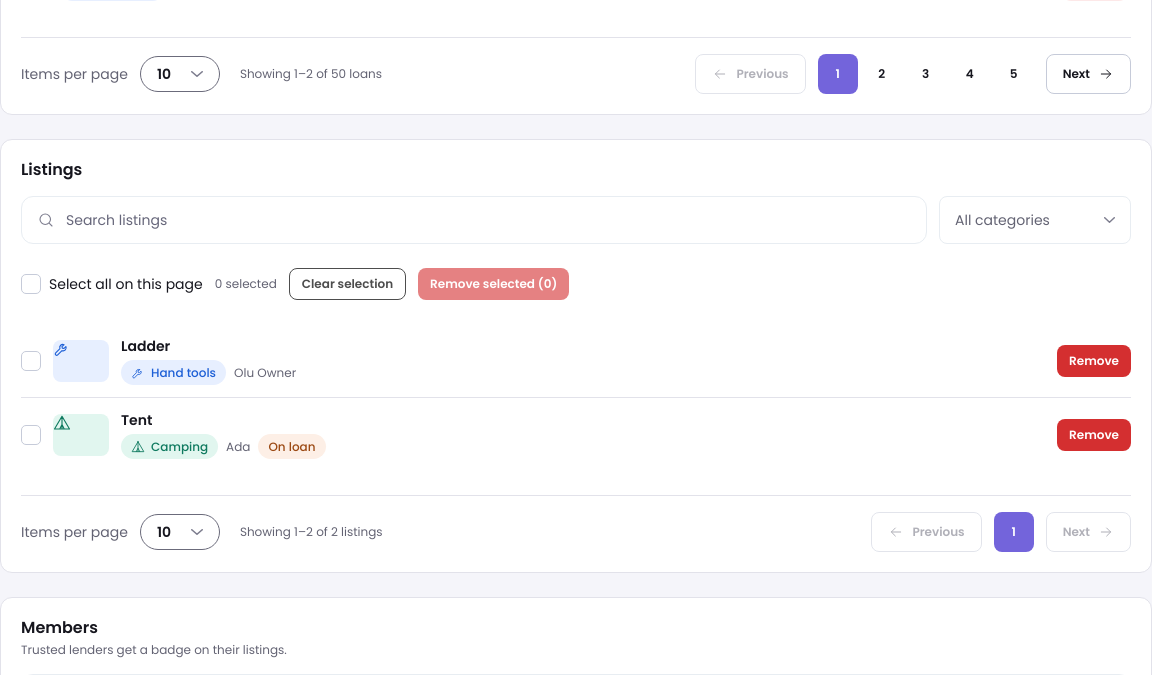
bulk listing removal › selects rows, supports mixed/select-all state, confirms and reports results
This screenshot has width=1152, height=675.
(page scrolled)
Expected: the button "Remove selected (0)" is disabled, [418,268,569,300]
Click the 1st checkbox named "Select Ladder" at point(31, 360), box [21,350,41,370]
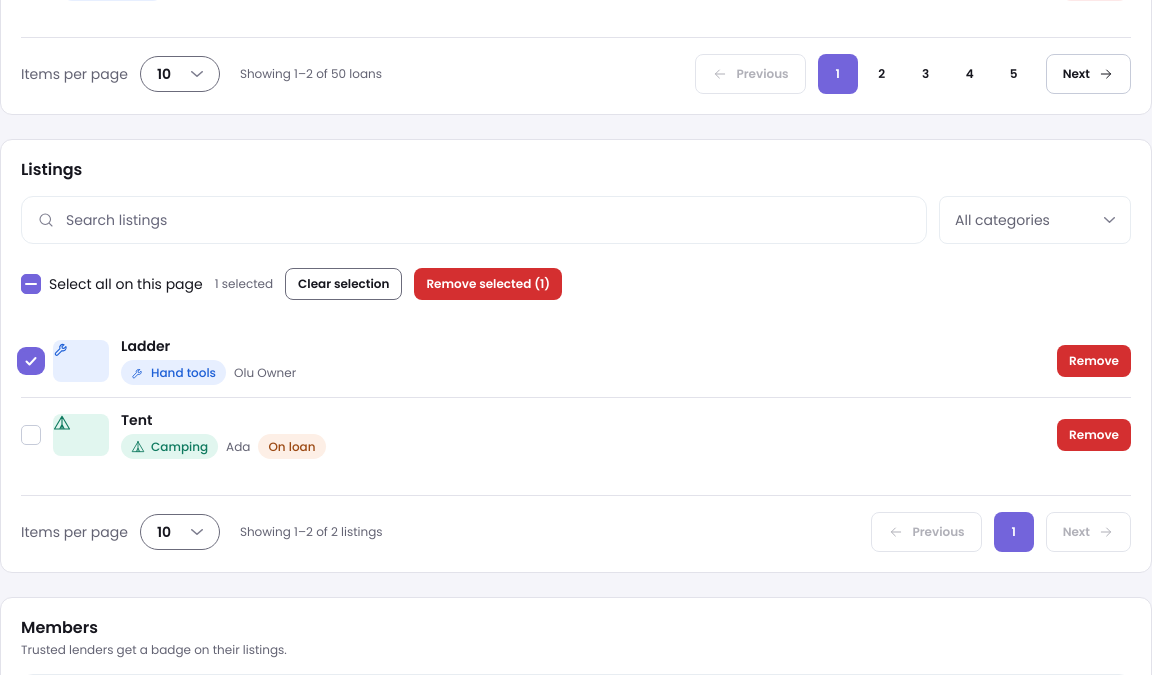
Click the checkbox labelled "Select all on this page" at point(31, 284), box [21,274,41,294]
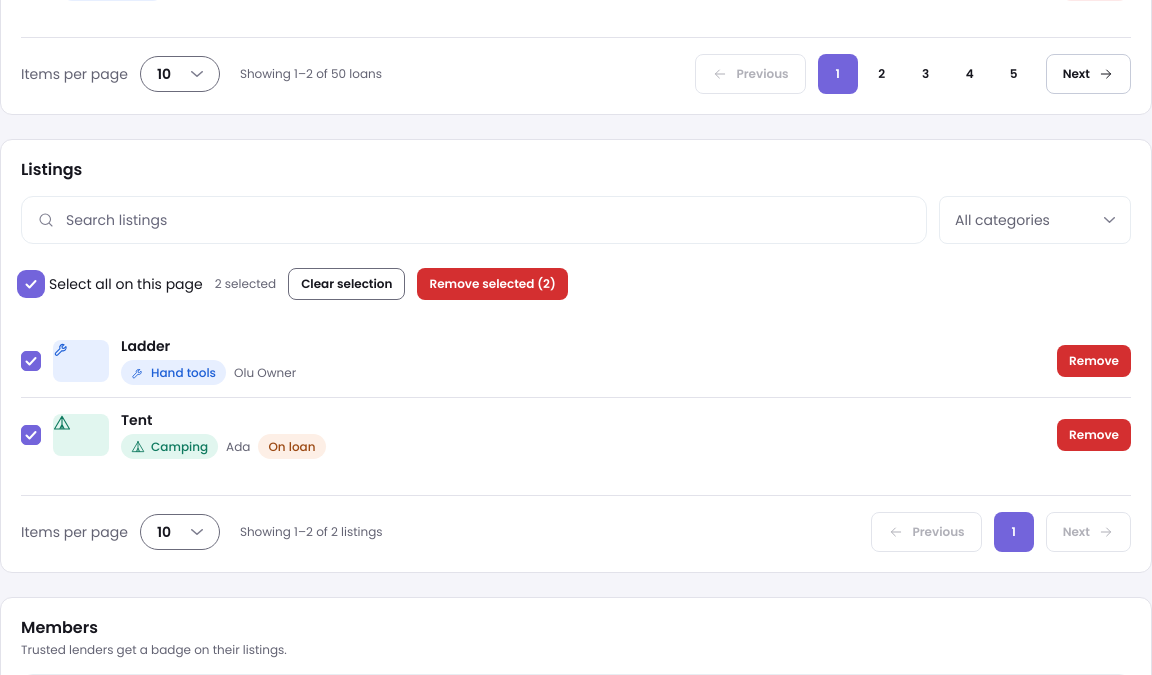
Expected: the checkbox named "Select Tent" in the row of "Camping" is checked, [21,424,41,444]
Click the button "Remove selected (2)" at point(493, 284), box [418,268,568,300]
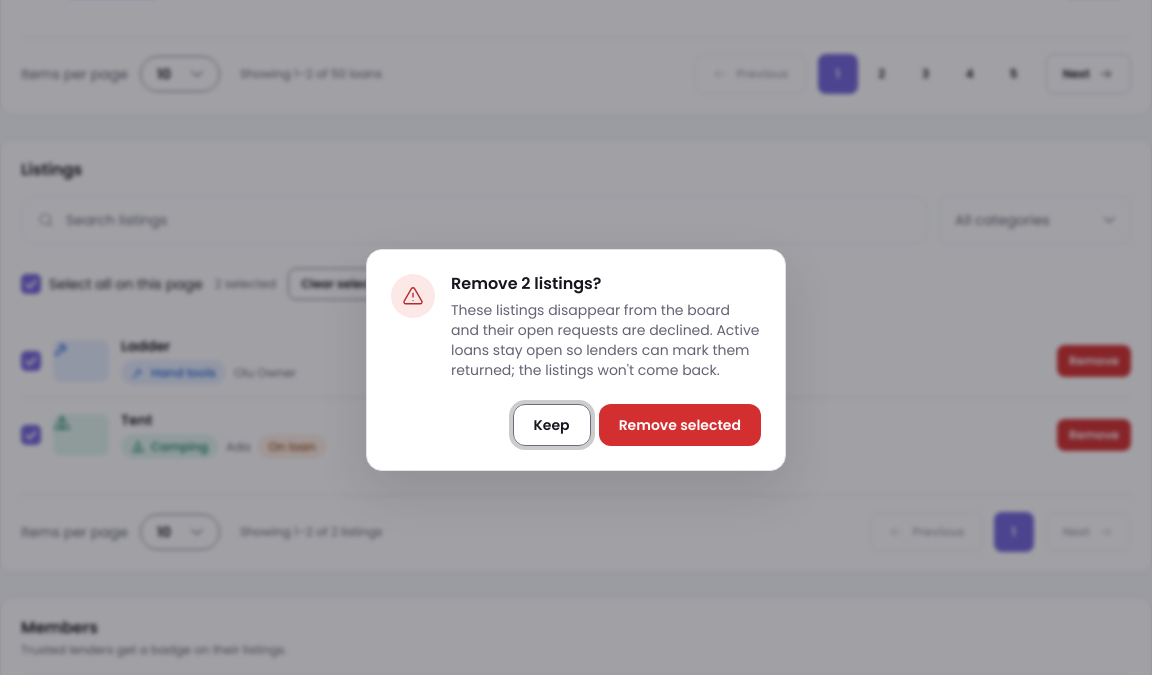
Click the button "Keep" at point(552, 425), box [513,404,591,446]
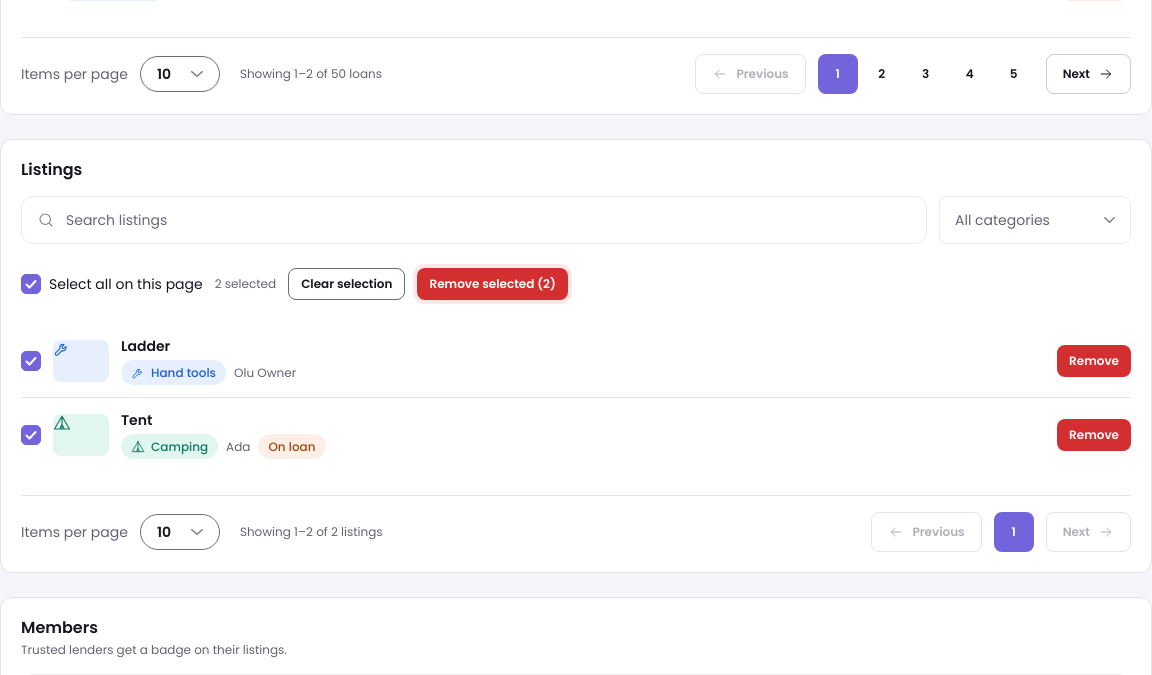
Click the button "Remove selected (2)" at point(493, 284), box [418,268,568,300]
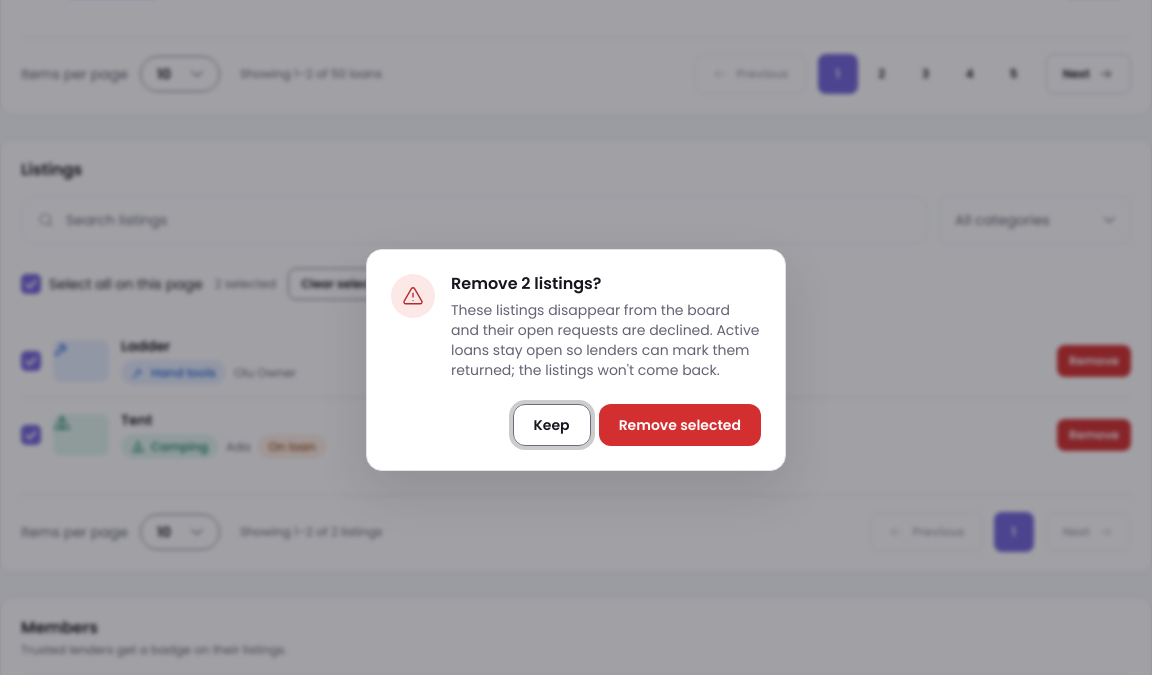
Click the button "Remove selected" at point(680, 425), box [599,404,761,446]
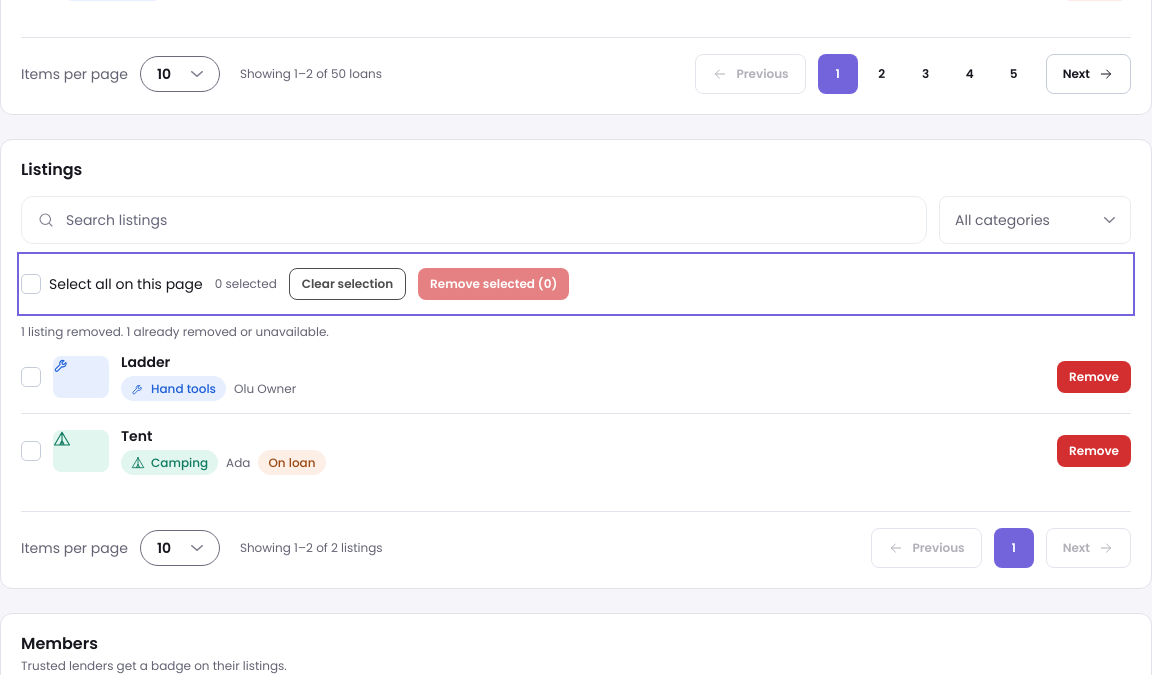
Expected: the message reads "1 listing removed. 1 already removed or unavailable.", [21,323,329,340]
Expected: the button "Remove selected (0)" is disabled, [418,268,569,300]
